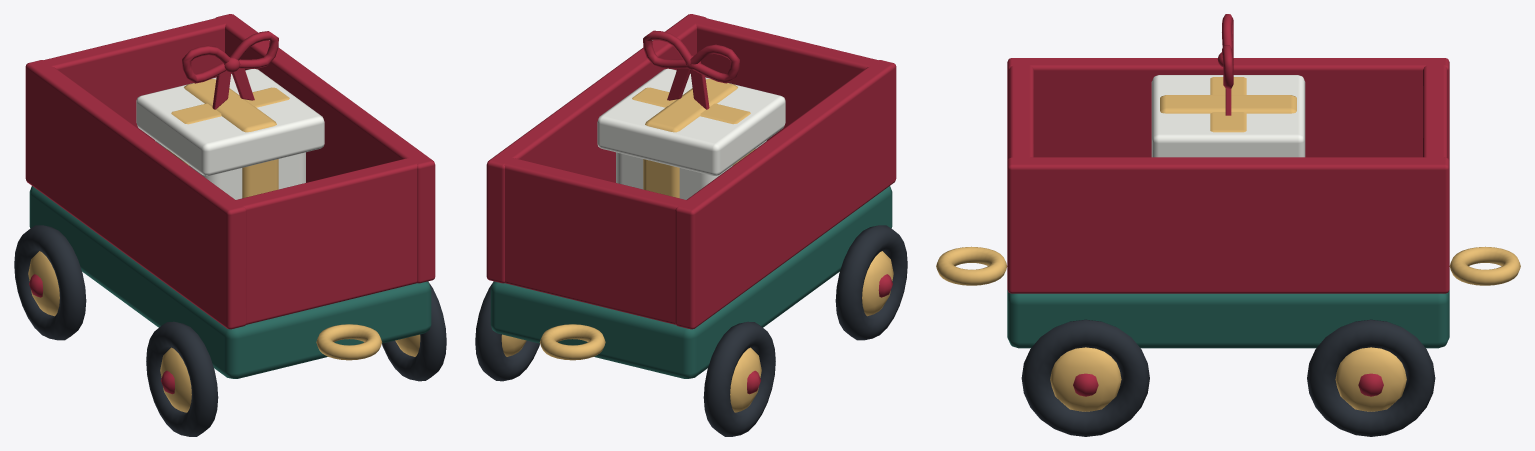
The model's file is christmas-storybook-present-wagon-0e5c4713__18752.glb.
3 views of the same model, side by side, from view 1: azimuth 30°, elevation 25°; view 2: azimuth 150°, elevation 25°; view 3: azimuth 270°, elevation 25° (orthographic). The views are drawn at different scales.
Parts seen in each view (by area): view 1: berry, pine, ink, cream, brass; view 2: berry, pine, ink, cream, brass; view 3: berry, pine, ink, brass, cream.
Part boxes in pixels (left/top/right/bottom): berry: left=25, top=14, right=435, bottom=394; pine: left=29, top=186, right=431, bottom=378; ink: left=14, top=225, right=446, bottom=436; cream: left=136, top=69, right=324, bottom=199; brass: left=28, top=79, right=420, bottom=412; berry: left=486, top=14, right=896, bottom=394; pine: left=490, top=186, right=892, bottom=378; ink: left=475, top=225, right=907, bottom=436; cream: left=597, top=68, right=785, bottom=199; brass: left=501, top=79, right=893, bottom=412; berry: left=1007, top=14, right=1449, bottom=396; pine: left=1007, top=290, right=1449, bottom=348; ink: left=1021, top=319, right=1435, bottom=436; brass: left=936, top=77, right=1520, bottom=411; cream: left=1151, top=75, right=1305, bottom=157.
Size of the model in its own units: 0.47 by 0.5302 by 0.82.
